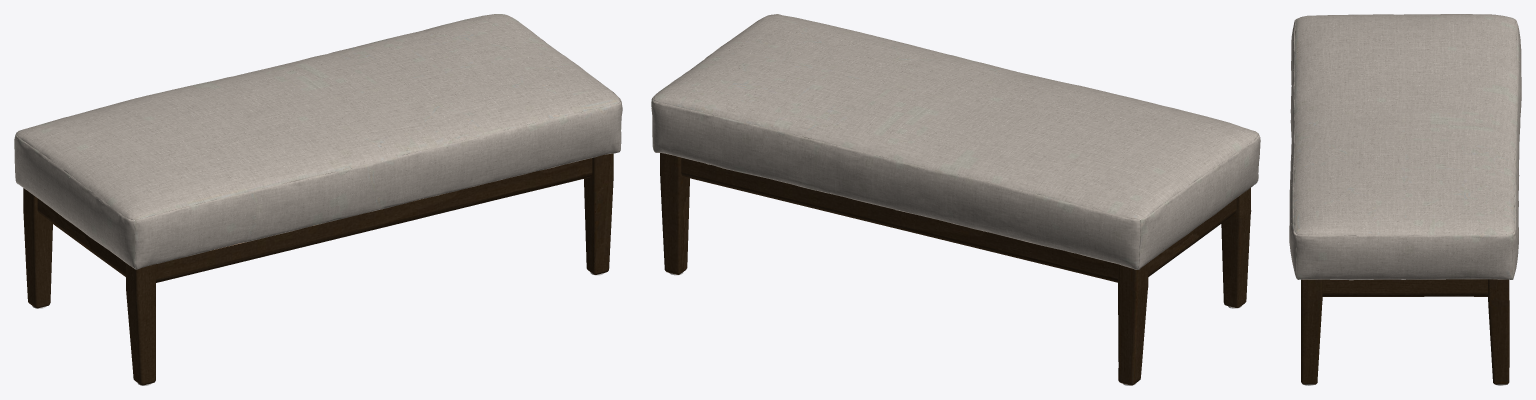
File: EKENÄSET bench - Kilanda light beige.glb
The picture shows the model from 3 angles, left to right: view 1: azimuth 30°, elevation 25°; view 2: azimuth 150°, elevation 25°; view 3: azimuth 270°, elevation 25°; orthographic projection. The views are drawn at different scales.
Parts seen in each view (by area): view 1: model; view 2: model; view 3: model.
Boxes of the visible parts, x1,y1,x2,y2 form: model: [14, 14, 622, 385]; model: [651, 14, 1260, 385]; model: [1289, 14, 1521, 385].
Size of the model in its own units: 1.13 by 0.4046 by 0.4976.
Materials: 1 (1 with a texture image).
